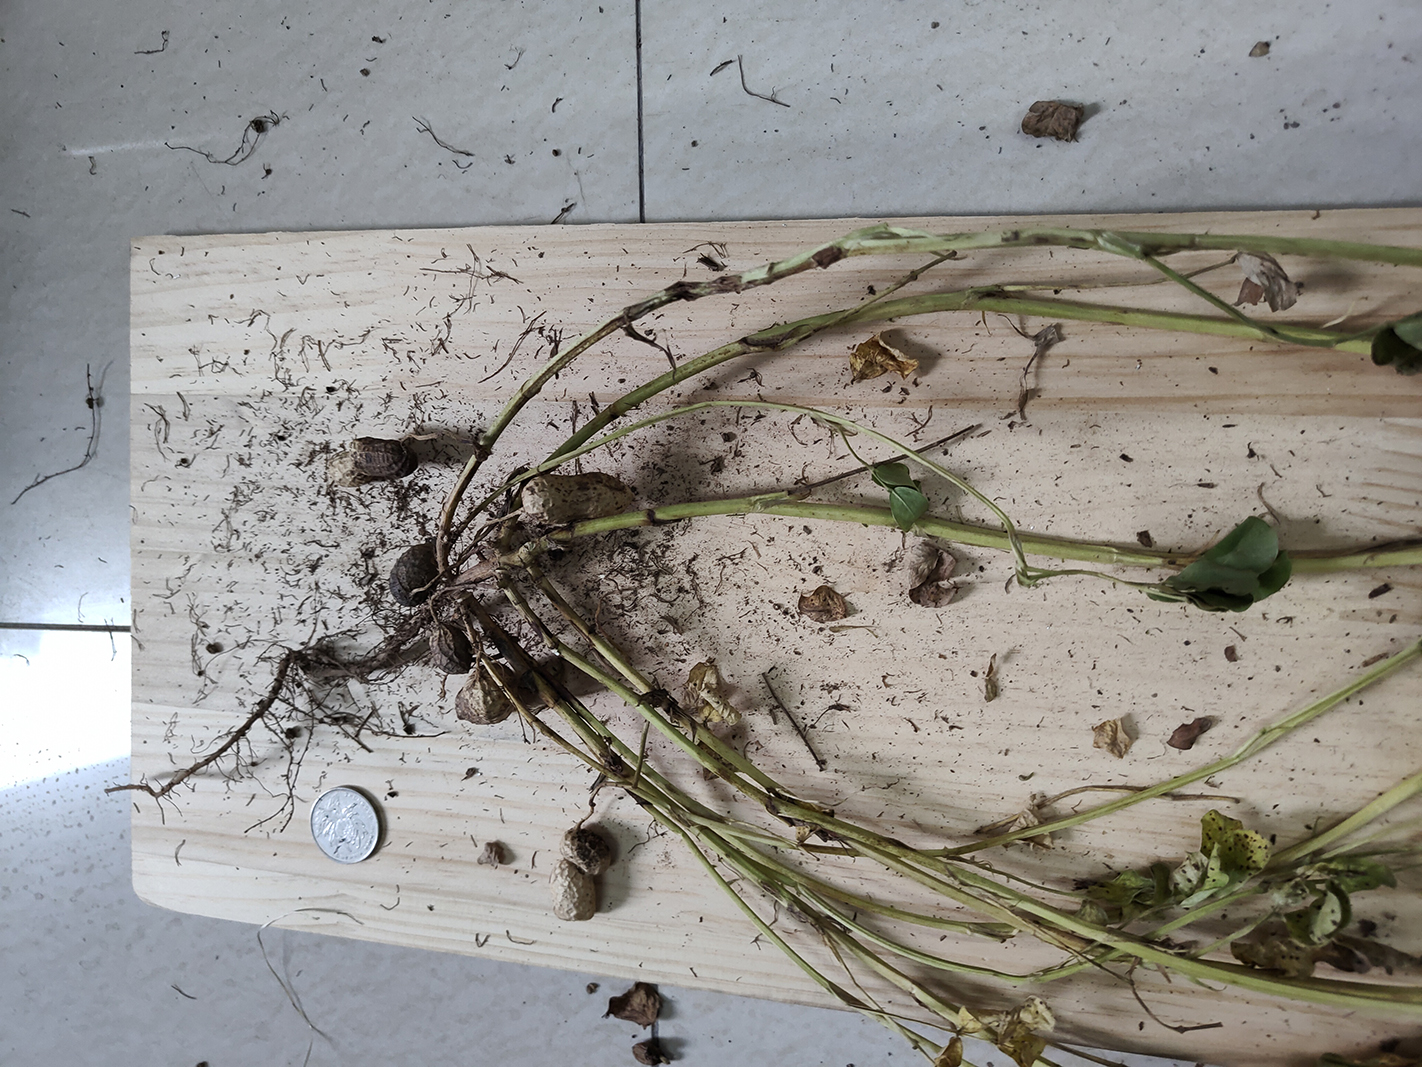h: (550, 831, 608, 921), (522, 474, 640, 517)
l: (320, 439, 407, 483), (455, 665, 517, 724), (389, 546, 437, 604), (428, 627, 472, 674)
